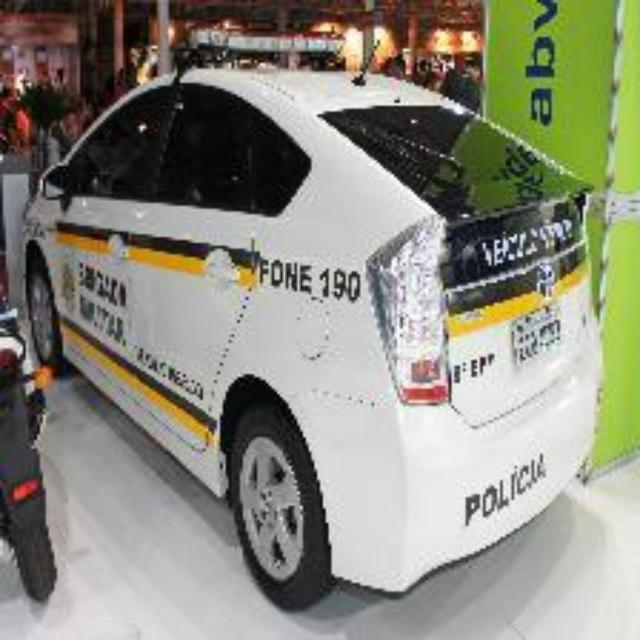emergency: (16, 27, 598, 596)
